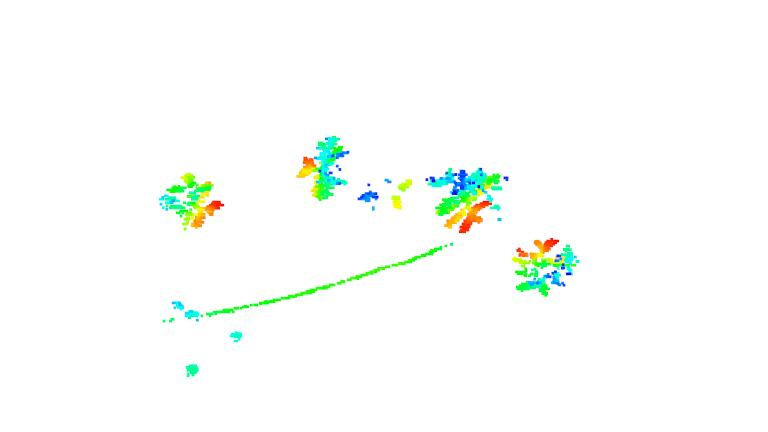chickpea: (431, 164, 511, 234), (157, 169, 232, 229), (511, 237, 582, 300), (296, 132, 352, 208), (358, 169, 412, 214)
